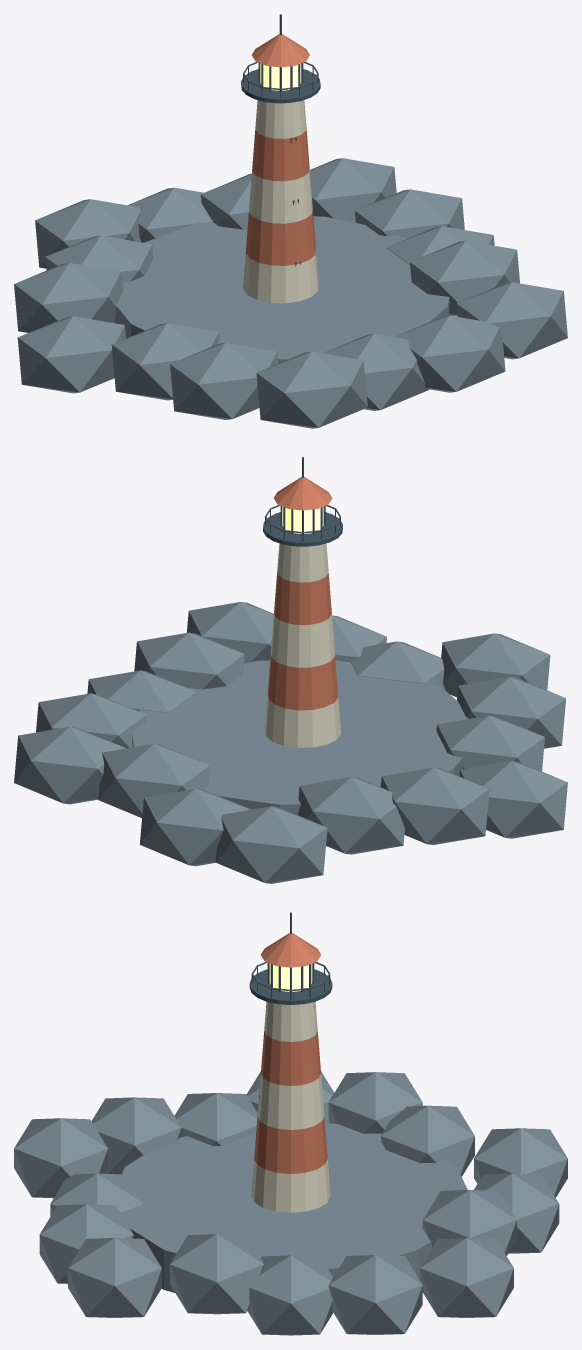
File: harbor_lighthouse.glb
The picture shows the model from 3 angles, top to bottom: view 1: azimuth 30°, elevation 25°; view 2: azimuth 150°, elevation 25°; view 3: azimuth 270°, elevation 25°; orthographic projection. The views are drawn at different scales.
Visible parts, largest first — view 1: harbor_lighthouse; view 2: harbor_lighthouse; view 3: harbor_lighthouse.
Part boxes in pixels (x1,y1,x2,y2): harbor_lighthouse: [14, 14, 567, 428]; harbor_lighthouse: [14, 457, 567, 883]; harbor_lighthouse: [14, 912, 567, 1335].
Bounding box in the file's own units: 41.73 × 27.2 × 40.06.
